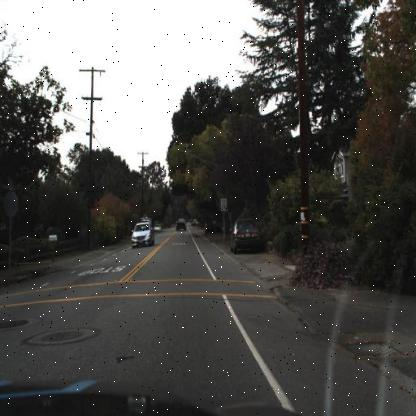car: (228, 216, 264, 257), (130, 218, 157, 250), (202, 217, 217, 239), (174, 215, 188, 233)
